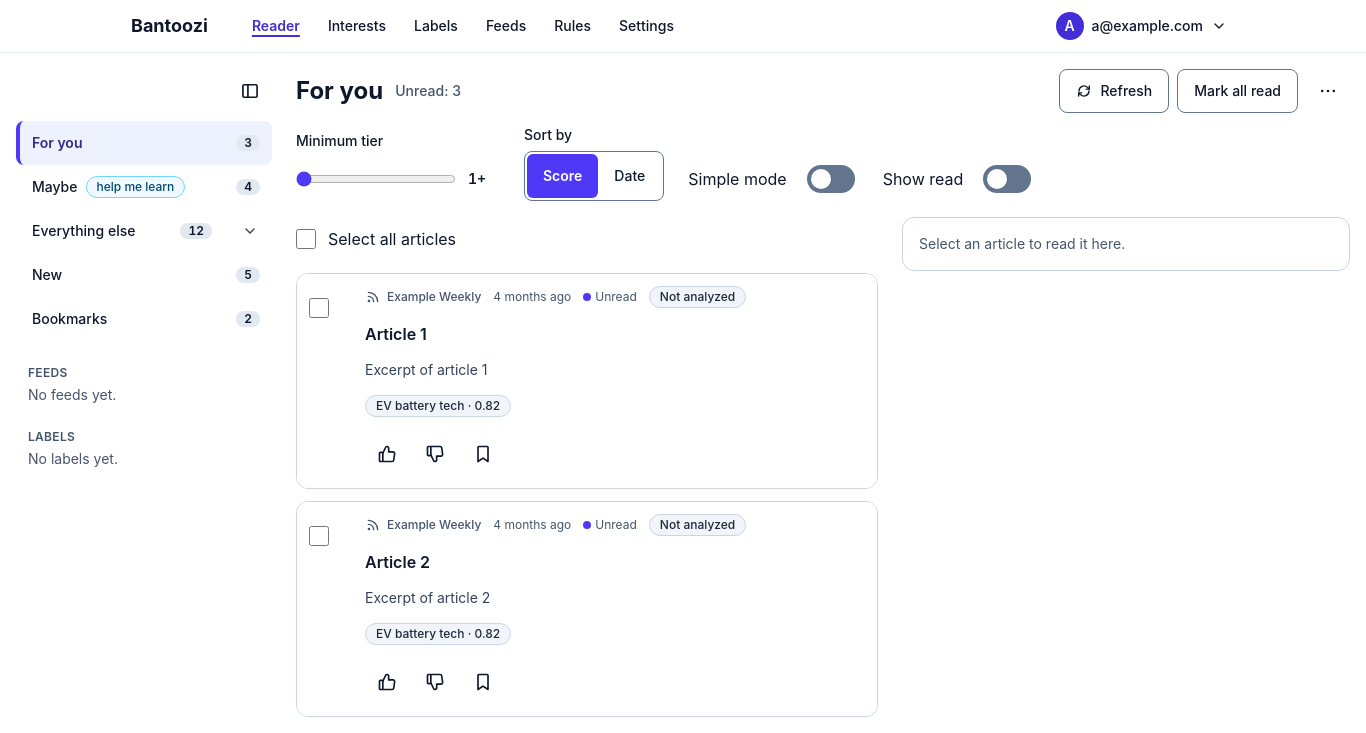
Test: Why this? from a row › opens the drawer for the article of the row whose reason chip was pressed
expect the element "Article 2" is shown: met, box [296,501,878,717]
Click the button with aria-label "EV battery tech · 0.82, Why this?" at (438, 634), box [365,612,511,656]
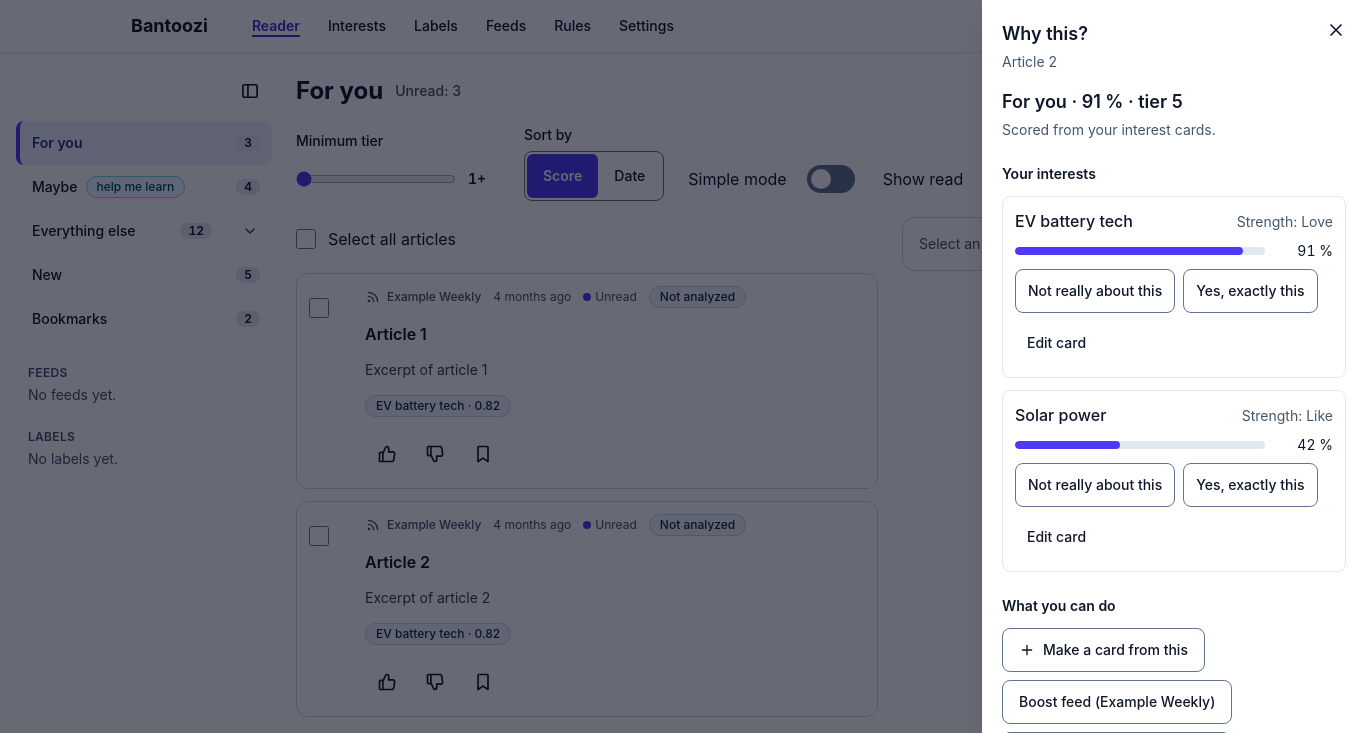
expect the heading "Your interests" is shown: met, box [1002,165,1096,182]
